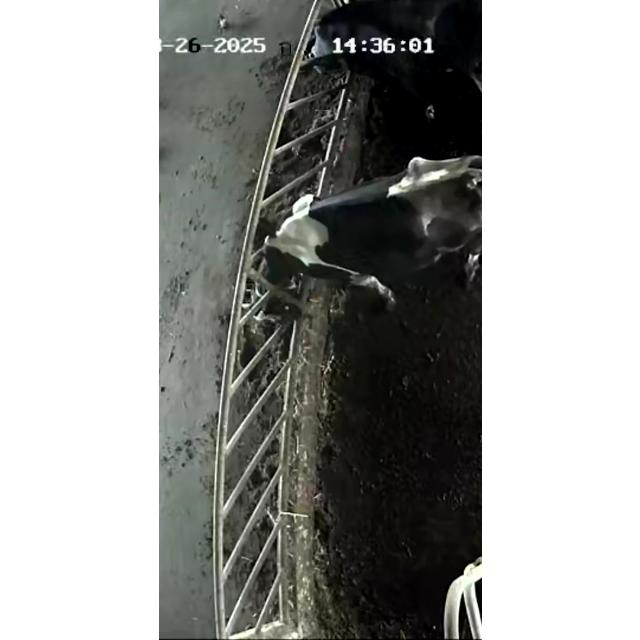eat: (202, 182, 370, 336), (268, 0, 398, 112)
